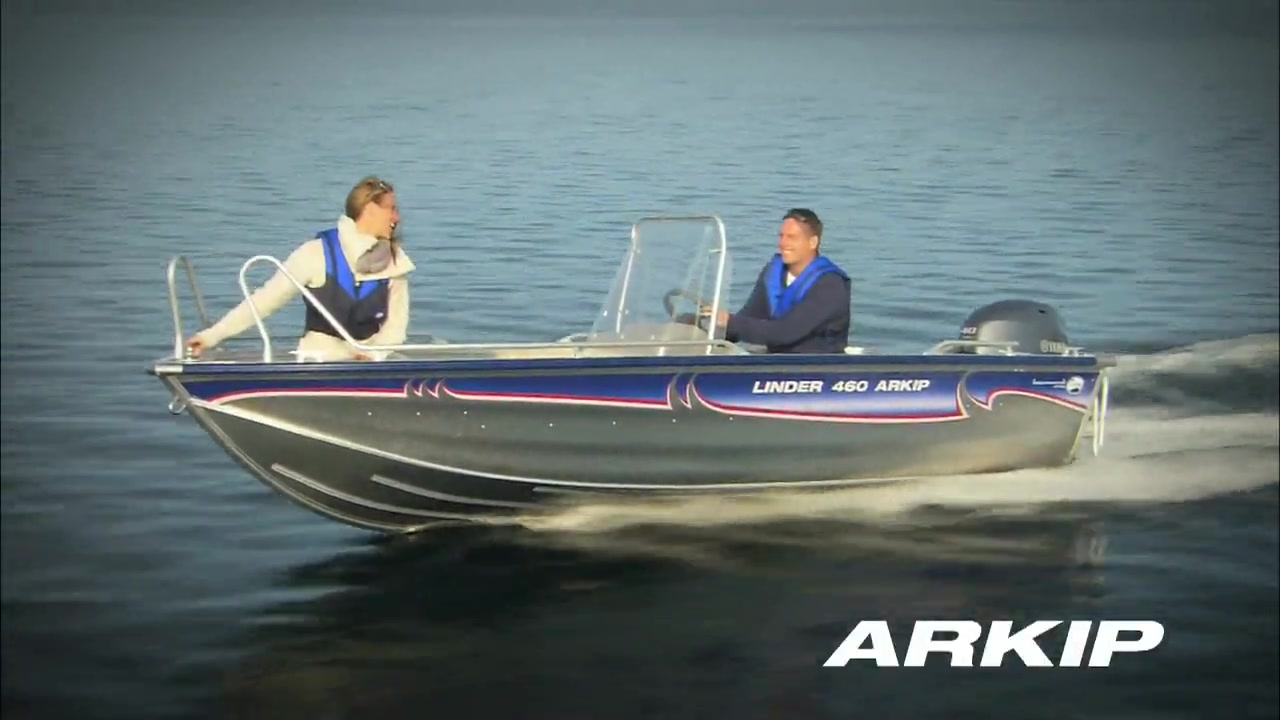boat: (150, 218, 1122, 538)
